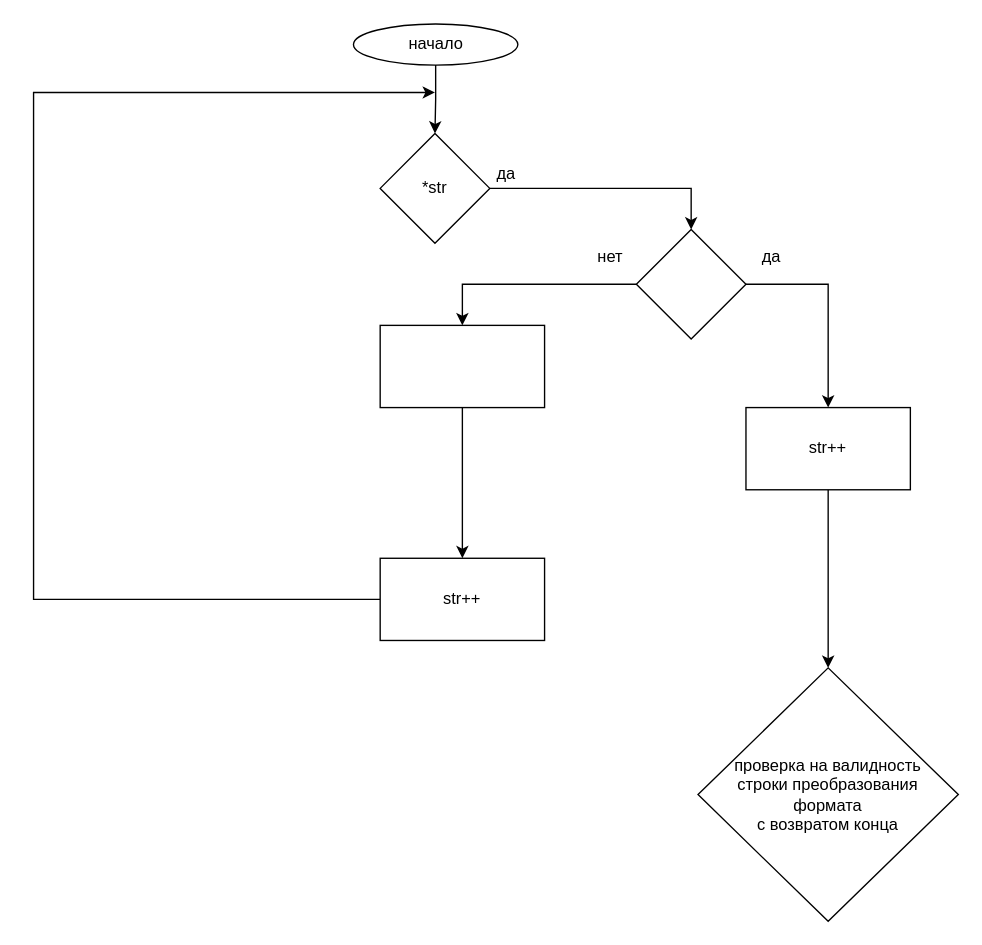
This 982x945 diagram has some shape labels left out. Here are the shapes that lost their labels. From the top down, the centre of each, then its label:
[690,283]: *str = '%'
[462,366]: запоминаем символ в списке или еще где?
